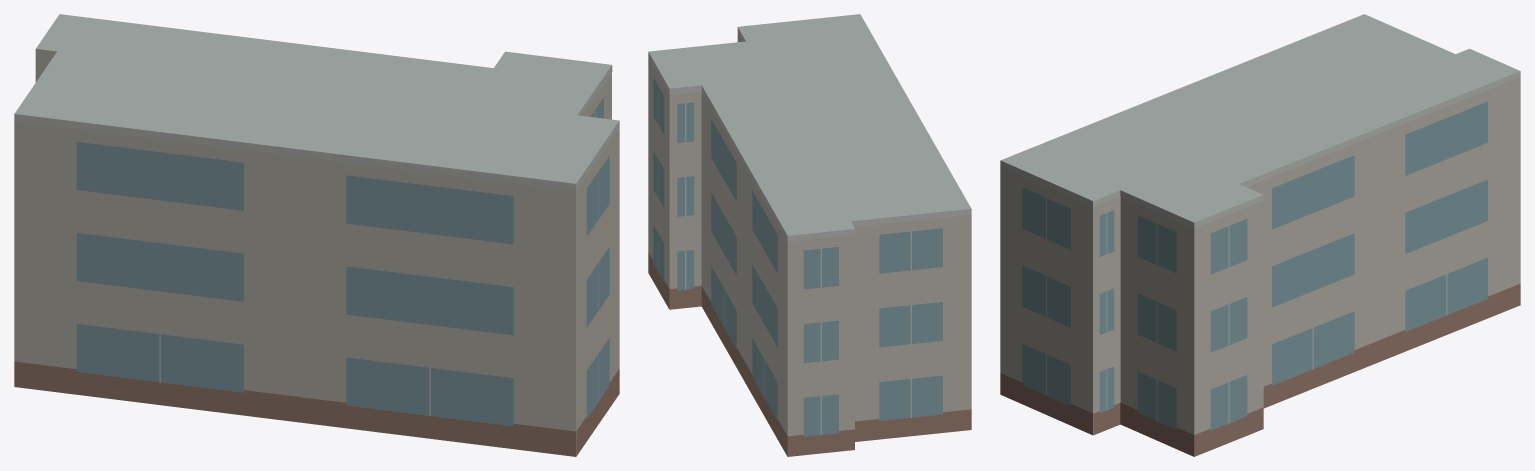
The model's file is survey-upis-32993148.glb.
3 renders of one model, left to right at view 1: azimuth 30°, elevation 25°; view 2: azimuth 150°, elevation 25°; view 3: azimuth 270°, elevation 25°, orthographic. The views are drawn at different scales.
Visible parts, largest first — view 1: survey-upis-32993148.tmp; view 2: survey-upis-32993148.tmp; view 3: survey-upis-32993148.tmp.
Boxes of the visible parts, x1=… form: survey-upis-32993148.tmp: x1=14, y1=14, x2=619, y2=456; survey-upis-32993148.tmp: x1=648, y1=14, x2=971, y2=456; survey-upis-32993148.tmp: x1=1000, y1=14, x2=1520, y2=456.
Bounding box in the file's own units: 17.49 × 9.15 × 18.42.
